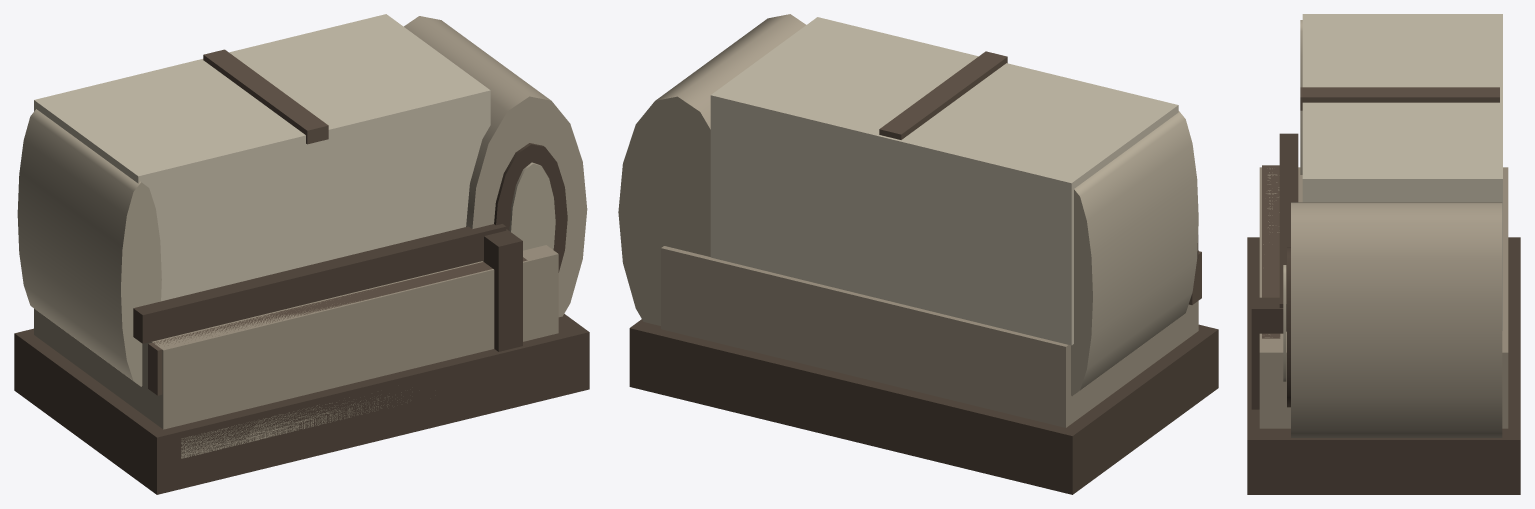
The model's file is CMU3DBedrollFolded.glb.
3 renders of one model, left to right at view 1: azimuth 30°, elevation 25°; view 2: azimuth 150°, elevation 25°; view 3: azimuth 270°, elevation 25°, orthographic. The views are drawn at different scales.
Visible parts, largest first — view 1: upper folded cushion, folded bottom cloth, folded lower pad, padded left folded edge, folded lower strap, right curled blanket edge, strap folded side, front fold crease, curl inner fabric, central fold channel, curl open end, lower hem; view 2: upper folded cushion, folded bottom cloth, folded lower pad, padded left folded edge, right curled blanket edge, central fold channel; view 3: right curled blanket edge, upper folded cushion, folded bottom cloth, folded lower pad, central fold channel, front fold crease, folded lower strap, strap folded side, curl open end, curl inner fabric, padded left folded edge.
Boxes of the visible parts, box(x1,y1,x2,y2) form: upper folded cushion: box(34, 14, 490, 301); folded bottom cloth: box(14, 314, 589, 494); folded lower pad: box(34, 245, 558, 429); padded left folded edge: box(17, 109, 161, 386); folded lower strap: box(133, 224, 506, 343); right curled blanket edge: box(404, 16, 587, 317); strap folded side: box(483, 229, 522, 351); front fold crease: box(148, 257, 527, 395); curl inner fabric: box(509, 162, 555, 250); central fold channel: box(203, 49, 328, 144); curl open end: box(494, 143, 567, 272); lower hem: box(181, 392, 401, 458); upper folded cushion: box(710, 17, 1178, 345); folded bottom cloth: box(629, 319, 1218, 494); folded lower pad: box(661, 246, 1198, 427); padded left folded edge: box(1071, 111, 1198, 396); right curled blanket edge: box(618, 14, 805, 325); central fold channel: box(879, 51, 1007, 139); right curled blanket edge: box(1291, 202, 1502, 437); upper folded cushion: box(1302, 14, 1502, 330); folded bottom cloth: box(1247, 237, 1520, 494); folded lower pad: box(1259, 167, 1508, 428); central fold channel: box(1300, 87, 1499, 110); front fold crease: box(1262, 165, 1280, 338); folded lower strap: box(1279, 133, 1298, 331); strap folded side: box(1251, 297, 1283, 409); curl open end: box(1287, 247, 1290, 407); curl inner fabric: box(1283, 265, 1286, 381); padded left folded edge: box(1300, 20, 1302, 174).
Size of the model in its own units: 0.495 by 0.308 by 0.2647.
